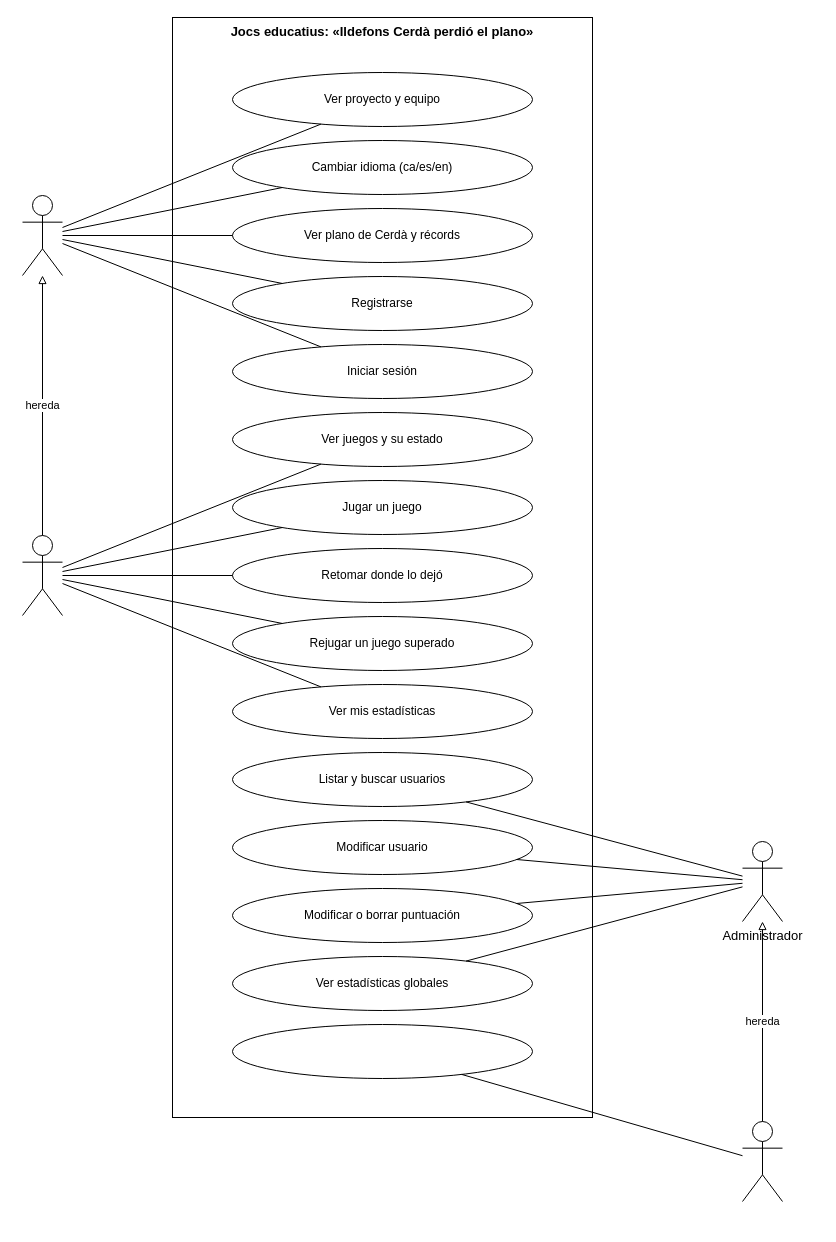
This 836x1242 diagram has some shape labels left out. The centre of each missing label's shape, as x and y in pixels:
"Gestionar administradores" belongs at (382,1051).
"Jugador" belongs at (42,575).
"Superadministrador" belongs at (762,1161).
"Visitante" belongs at (42,235).
